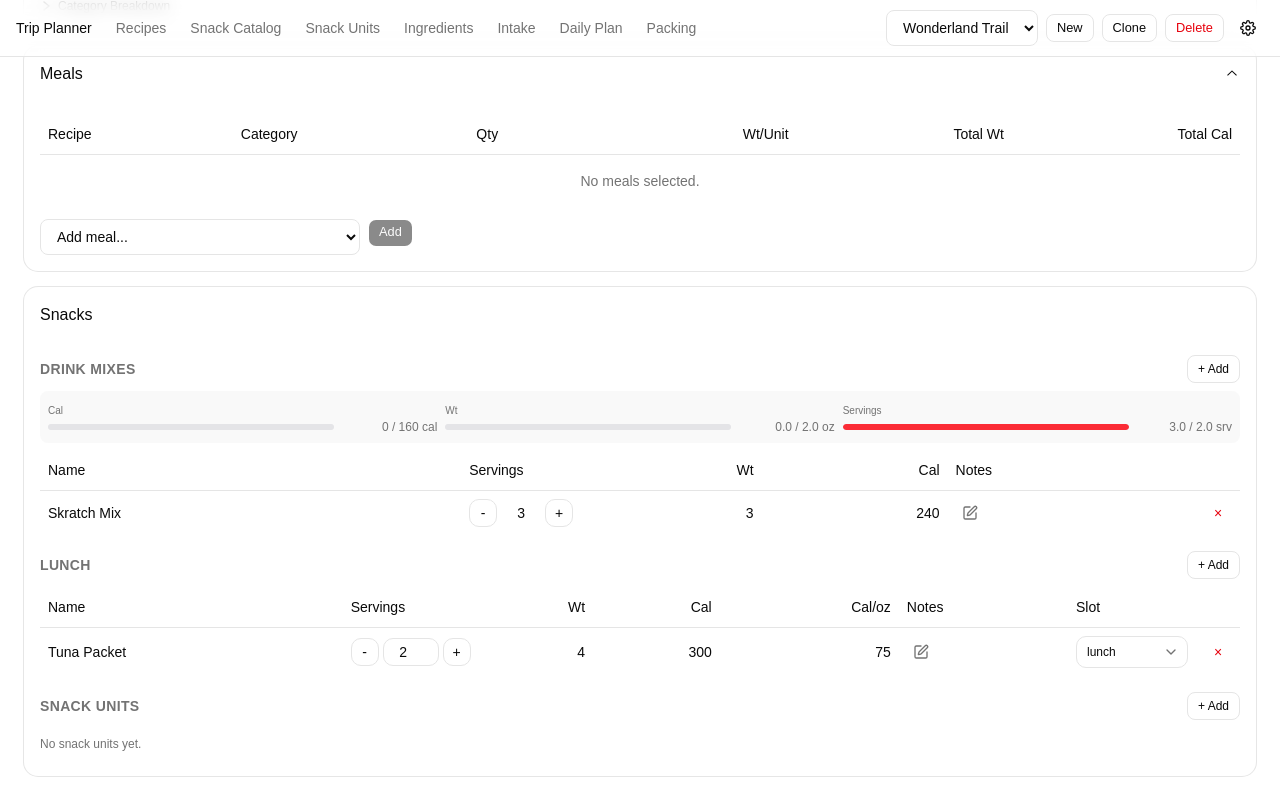
Test case: SnackSelection › a successful servings change refreshes the trip and renders the updated value
The image size is (1280, 800).
(page scrolled)
Click the button named "Increase Tuna Packet servings" at (457, 652), box [443,638,471,666]
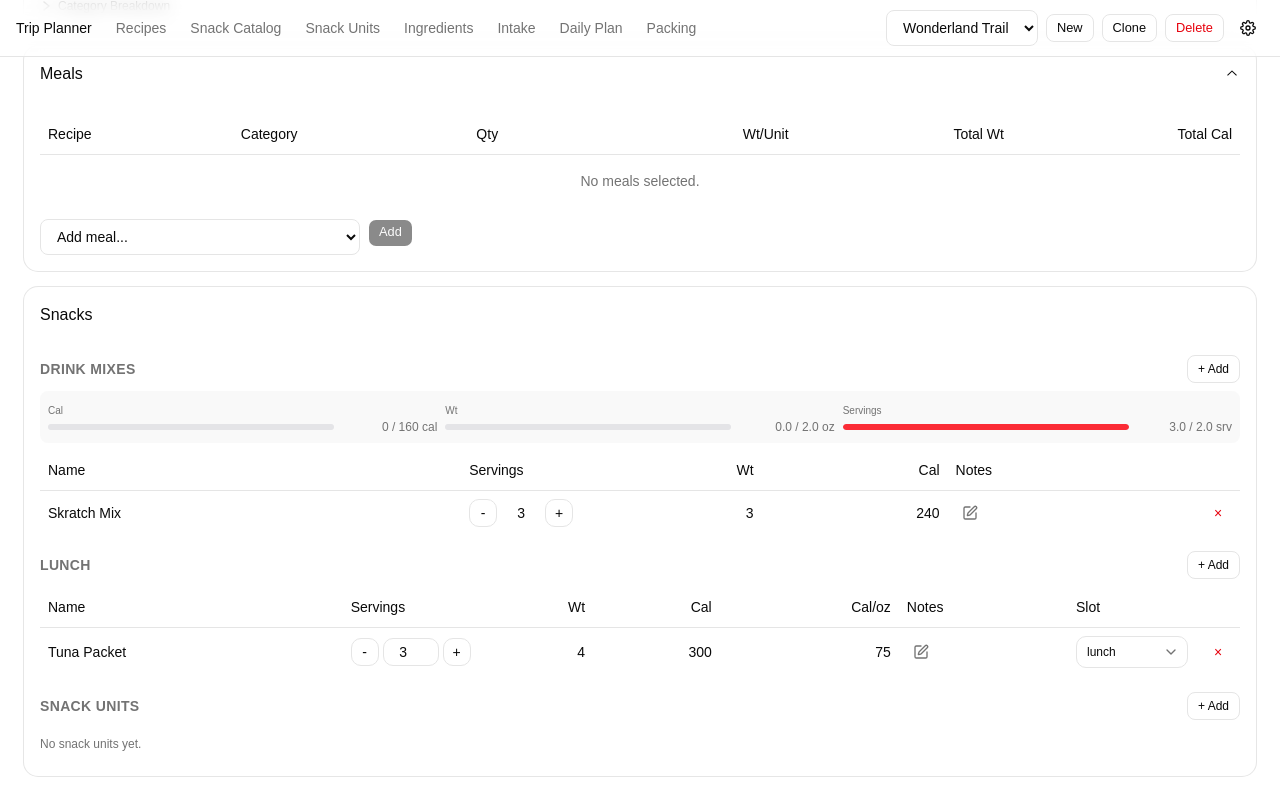
Now the number field named "Tuna Packet servings" holds "3", box [383,638,439,666]
